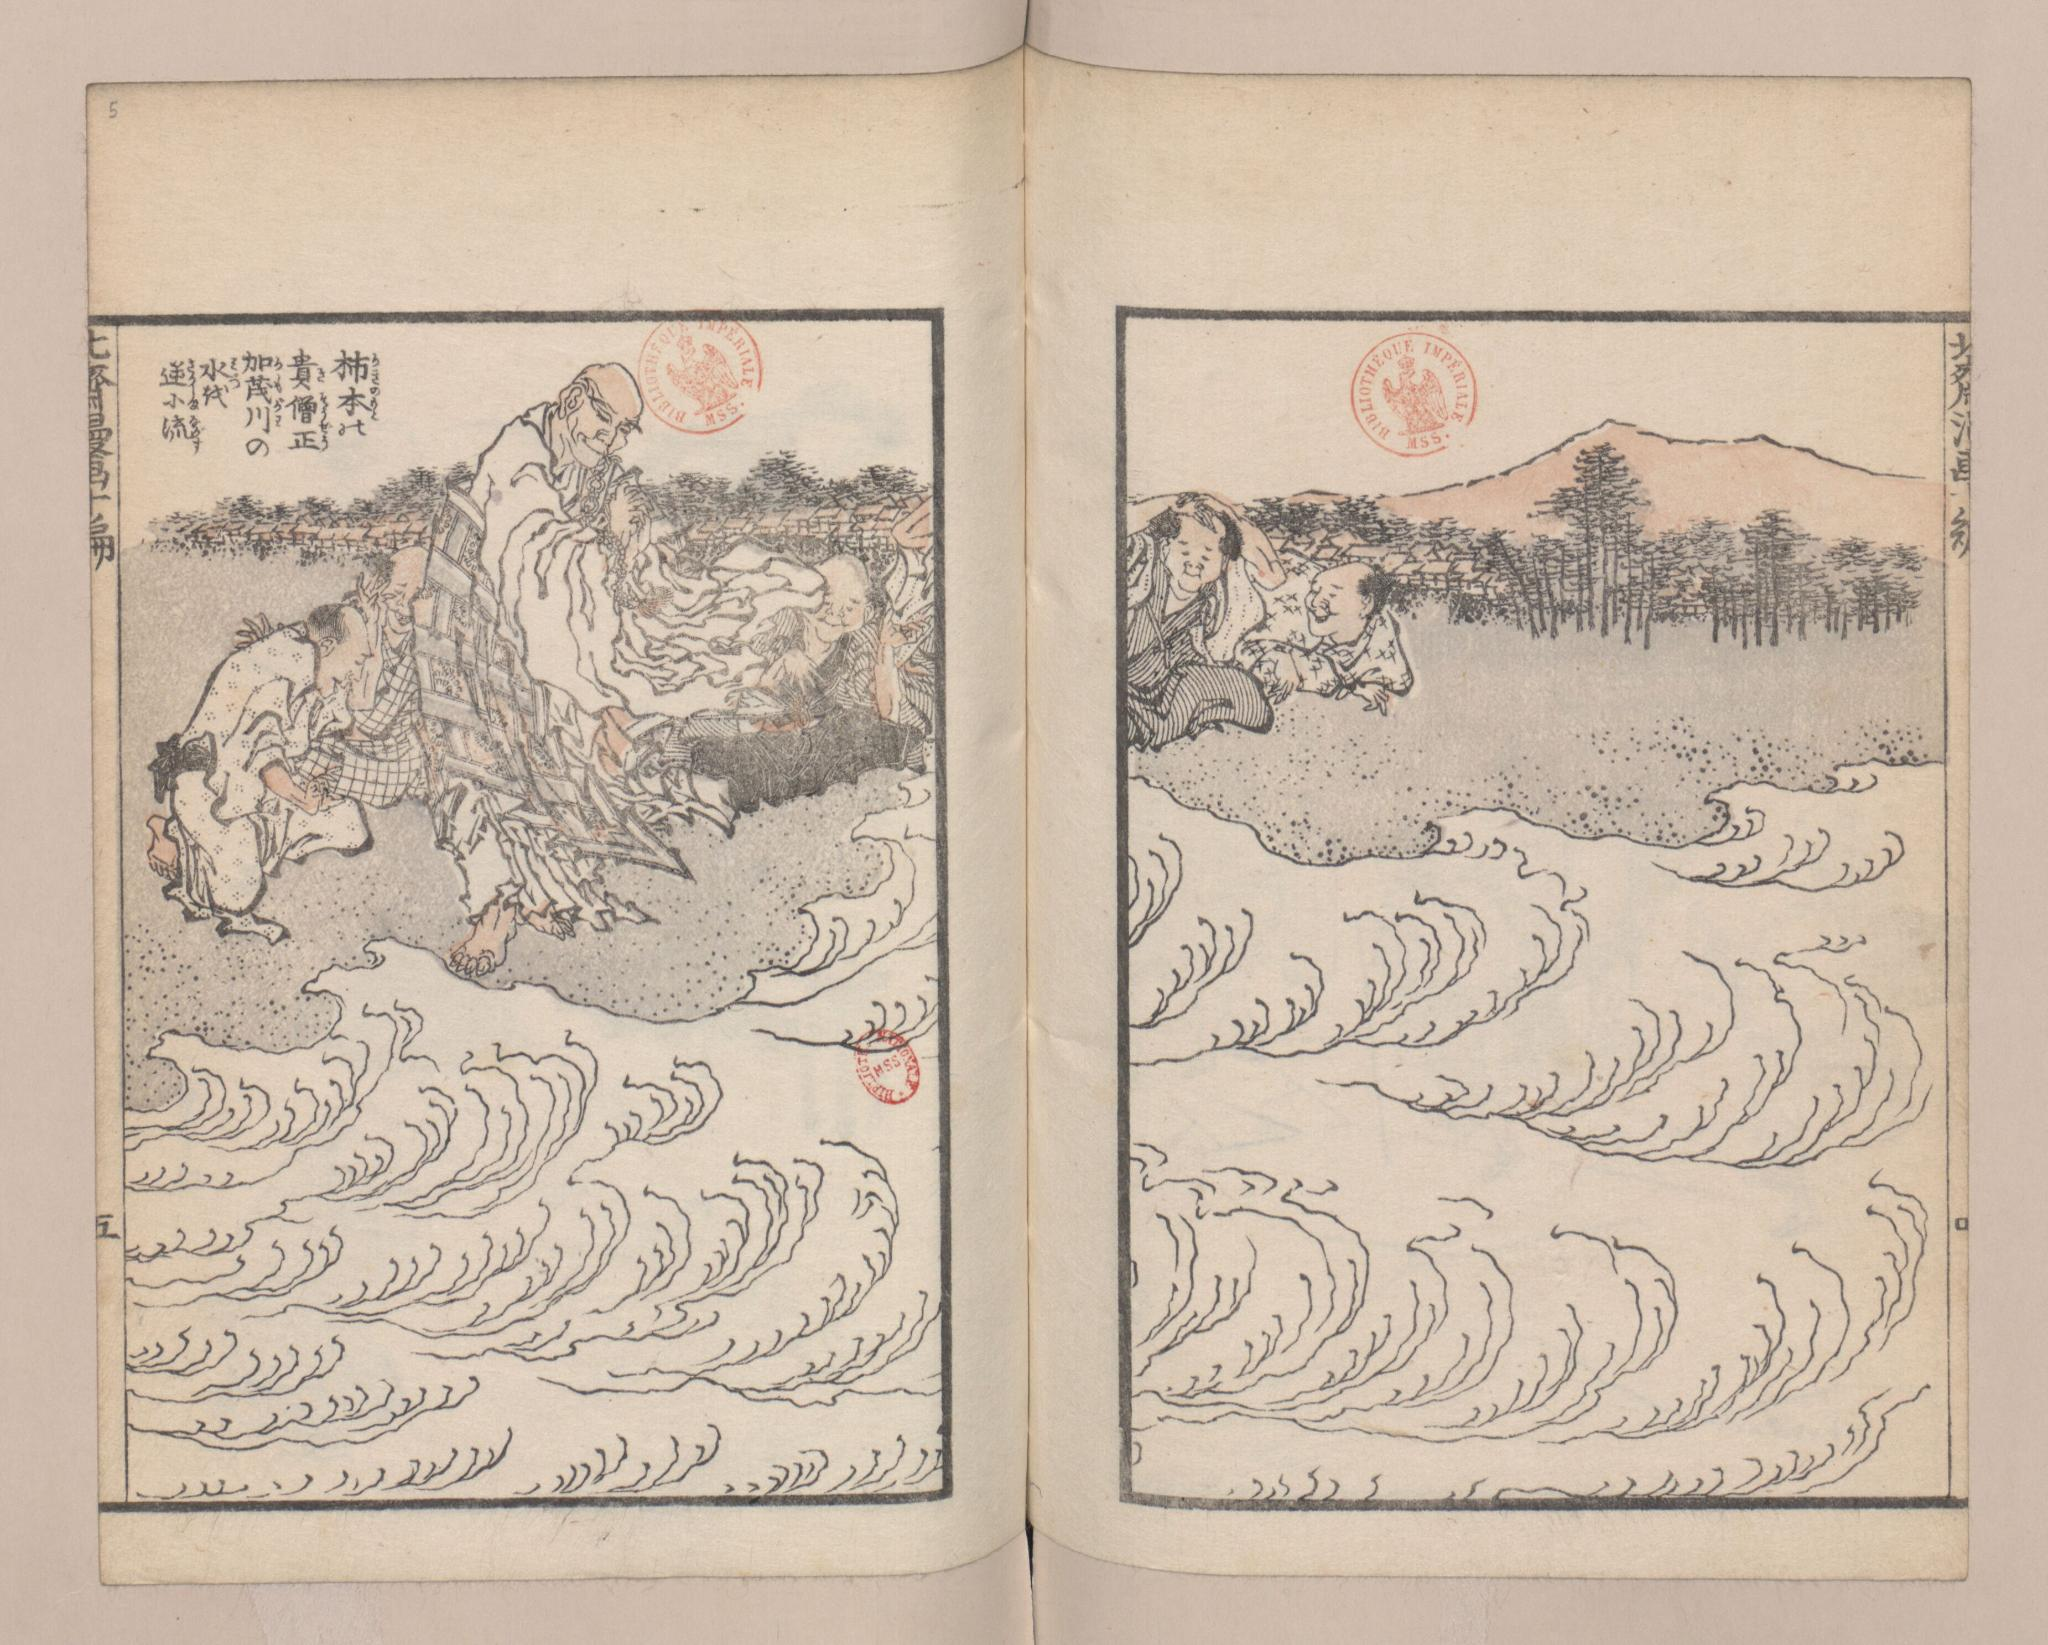MainZone-Character: (287, 347, 329, 391), (332, 349, 384, 383), (158, 416, 205, 453), (336, 386, 383, 420), (287, 391, 331, 426), (240, 401, 284, 435), (285, 428, 332, 457), (200, 381, 242, 411), (158, 358, 200, 386), (245, 376, 285, 401), (156, 391, 200, 413), (242, 349, 280, 373), (200, 358, 240, 379)
MainZone-Ruby: (188, 416, 203, 452), (368, 386, 383, 418), (272, 401, 284, 431), (319, 393, 329, 426), (369, 352, 381, 381), (186, 359, 198, 386), (317, 430, 331, 452), (188, 393, 203, 411), (228, 378, 242, 393), (272, 376, 284, 393), (272, 356, 284, 371), (316, 364, 324, 383), (228, 359, 238, 374)
